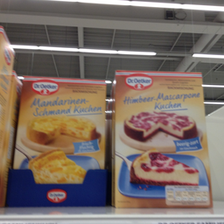cake: (111, 69, 213, 214), (11, 73, 108, 204)
